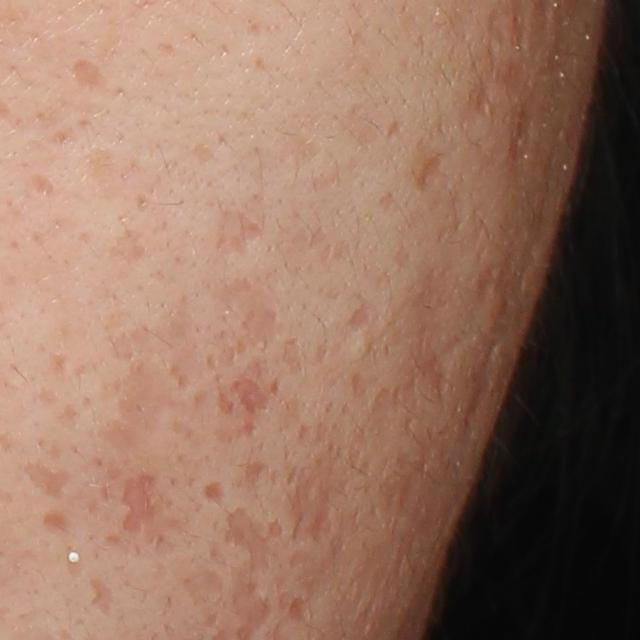atrophic_scar: (94, 355, 178, 447), (204, 290, 281, 370), (292, 446, 353, 545), (398, 323, 455, 400), (285, 549, 337, 624), (117, 469, 164, 536), (214, 208, 273, 255), (18, 459, 70, 500), (507, 97, 538, 161), (180, 565, 223, 605), (106, 226, 148, 266), (230, 372, 269, 414), (409, 151, 443, 193), (70, 56, 112, 89), (466, 78, 498, 120), (238, 459, 273, 495), (283, 333, 310, 376), (89, 580, 116, 618), (340, 302, 374, 331), (45, 351, 76, 378), (204, 481, 227, 509), (44, 509, 68, 534), (349, 369, 368, 398), (28, 174, 54, 195), (384, 118, 404, 138), (201, 609, 219, 627)
other: (67, 549, 82, 566)
